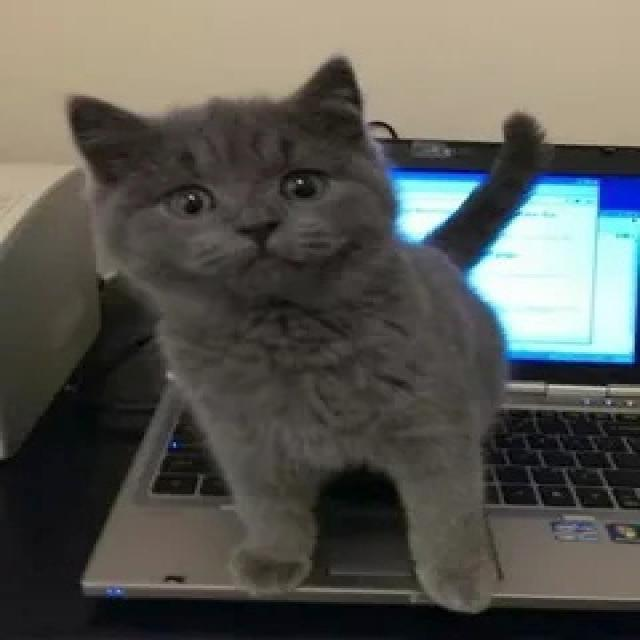da khoe manh: (219, 222, 489, 415)
